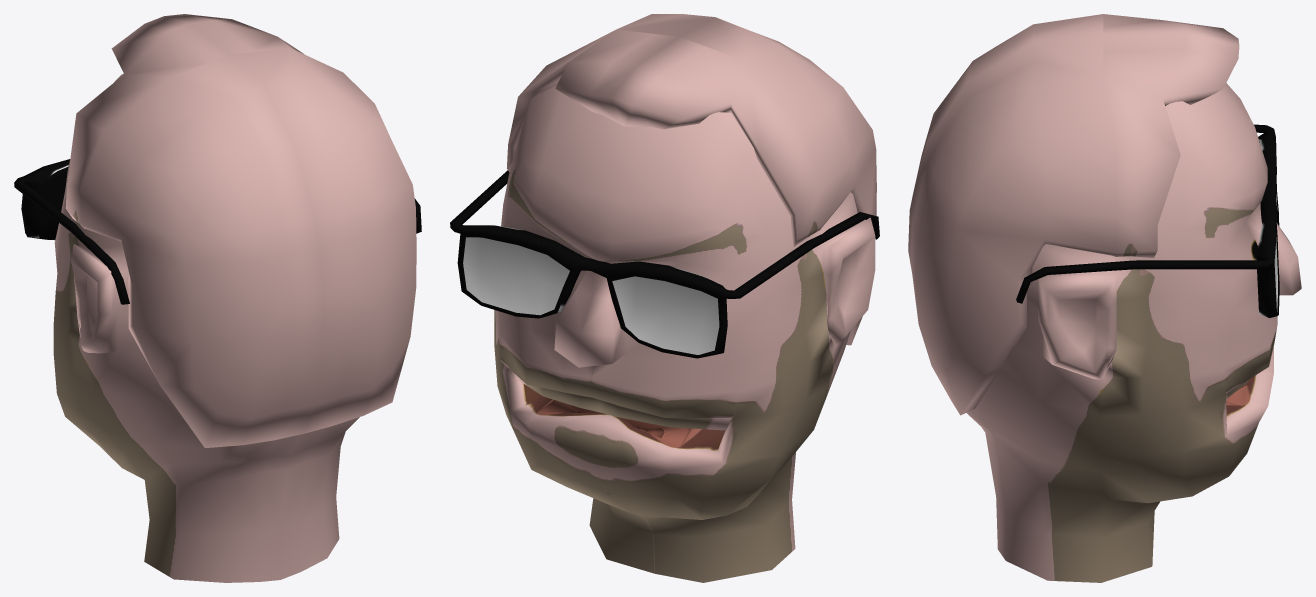
Rendered from BradHeadAngry.fbx.
3 renders of one model, left to right at view 1: azimuth 30°, elevation 25°; view 2: azimuth 150°, elevation 25°; view 3: azimuth 270°, elevation 25°, orthographic. The views are drawn at different scales.
Visible parts, largest first — view 1: Hair, Head, Glasses; view 2: Head, Hair, Glasses; view 3: Head, Hair, Glasses.
Part boxes in pixels (bbox=[...]): Hair: bbox=[65, 14, 416, 447]; Head: bbox=[53, 73, 359, 582]; Glasses: bbox=[14, 159, 421, 304]; Head: bbox=[494, 82, 875, 582]; Hair: bbox=[507, 14, 876, 345]; Glasses: bbox=[450, 170, 879, 358]; Head: bbox=[966, 83, 1301, 582]; Hair: bbox=[908, 14, 1239, 415]; Glasses: bbox=[1016, 124, 1279, 317].
Size of the model in its own units: 81.43 by 121 by 84.36.
4 materials, 4 textured.
